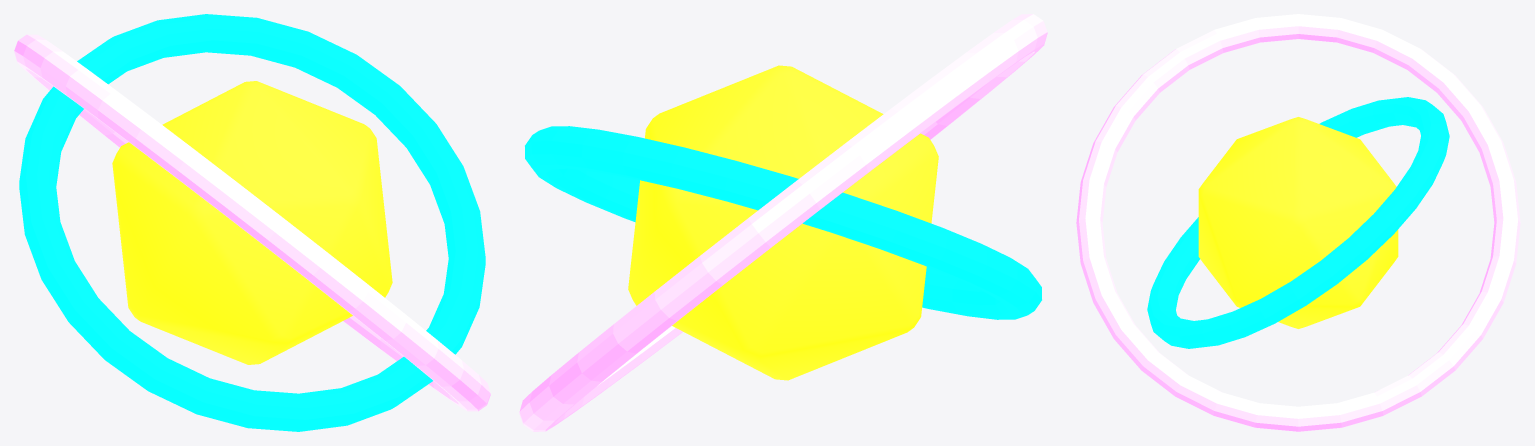
Rendered from plasma_orb.glb.
3 views of the same model, side by side, from view 1: azimuth 30°, elevation 25°; view 2: azimuth 150°, elevation 25°; view 3: azimuth 270°, elevation 25° (orthographic). The views are drawn at different scales.
Visible parts, largest first — view 1: Core, InnerRing, OuterRing; view 2: Core, OuterRing, InnerRing; view 3: OuterRing, Core, InnerRing.
Part boxes in pixels (x1=…): Core: x1=112, y1=81, x2=392, y2=364; InnerRing: x1=19, y1=14, x2=485, y2=431; OuterRing: x1=14, y1=34, x2=490, y2=411; Core: x1=628, y1=65, x2=938, y2=380; OuterRing: x1=519, y1=14, x2=1047, y2=431; InnerRing: x1=525, y1=126, x2=1041, y2=319; OuterRing: x1=1076, y1=14, x2=1520, y2=431; Core: x1=1198, y1=117, x2=1398, y2=328; InnerRing: x1=1147, y1=97, x2=1449, y2=348.
Bounding box in the file's own units: 0.608 × 0.5384 × 0.744.
